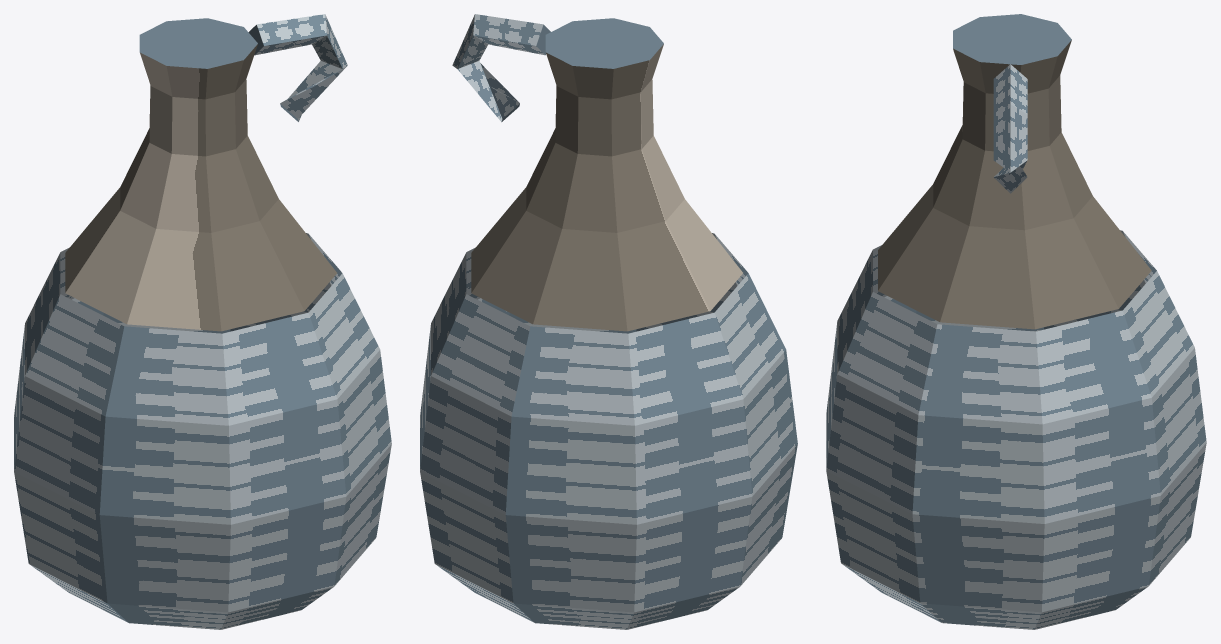
File: MOB-03_Garrafa_de_vidrio.gltf
3 views of the same model, side by side, from view 1: azimuth 30°, elevation 25°; view 2: azimuth 150°, elevation 25°; view 3: azimuth 270°, elevation 25° (orthographic).
Parts seen in each view (by area): view 1: MOB-03_Garrafa_de_vidrio; view 2: MOB-03_Garrafa_de_vidrio; view 3: MOB-03_Garrafa_de_vidrio.
Boxes of the visible parts, x1,y1,x2,y2 form: MOB-03_Garrafa_de_vidrio: [14, 14, 391, 629]; MOB-03_Garrafa_de_vidrio: [420, 14, 797, 629]; MOB-03_Garrafa_de_vidrio: [826, 14, 1206, 629].
Size of what is drawn, in the model's own units: 0.2954 by 0.454 by 0.291.
1 material, 1 textured.
